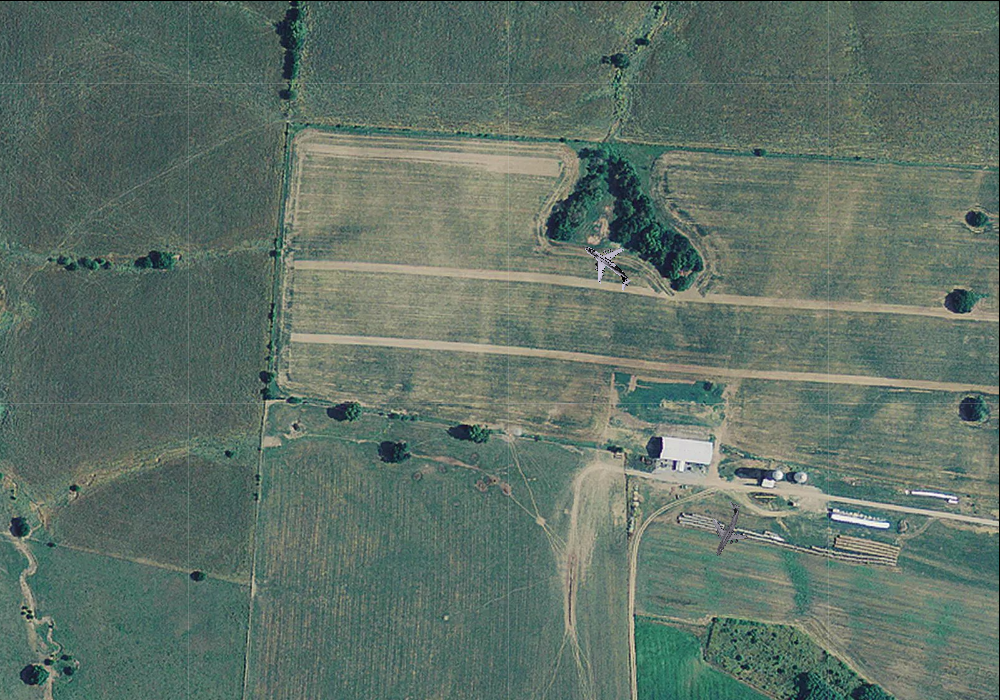plane: (568, 228, 645, 303), (693, 493, 761, 565)
